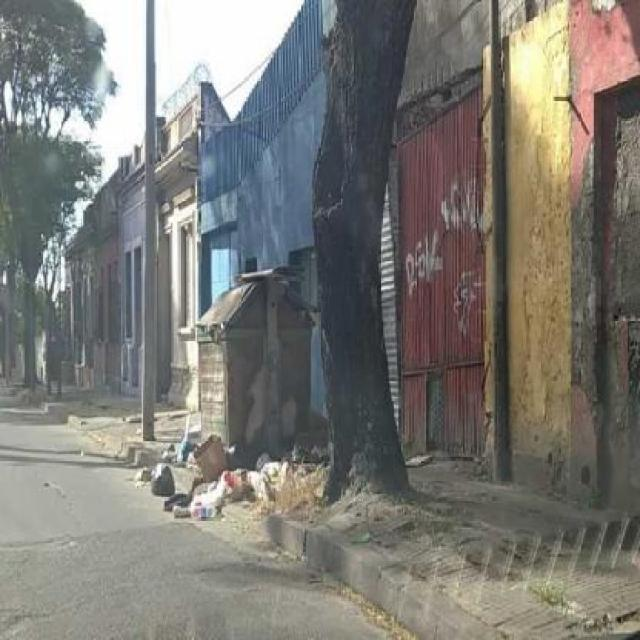garbage: (140, 414, 334, 534), (403, 442, 438, 470), (350, 528, 379, 551)
